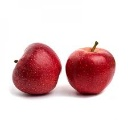apple: (11, 42, 62, 96)
